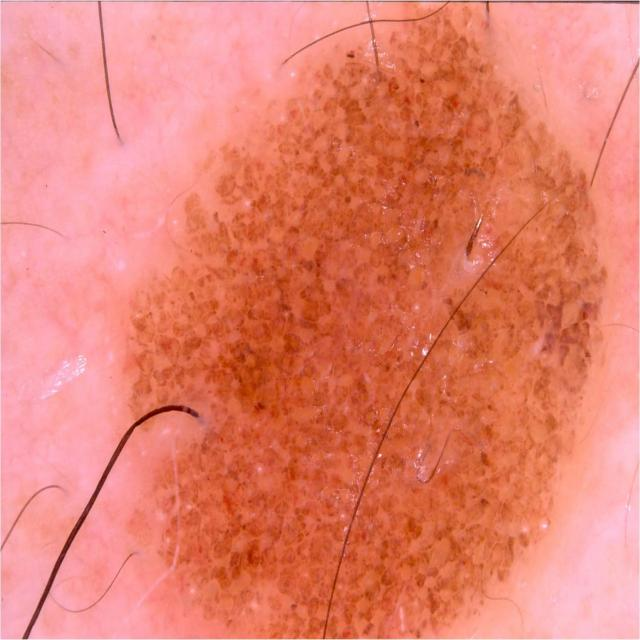Benign: (134, 26, 606, 639)
